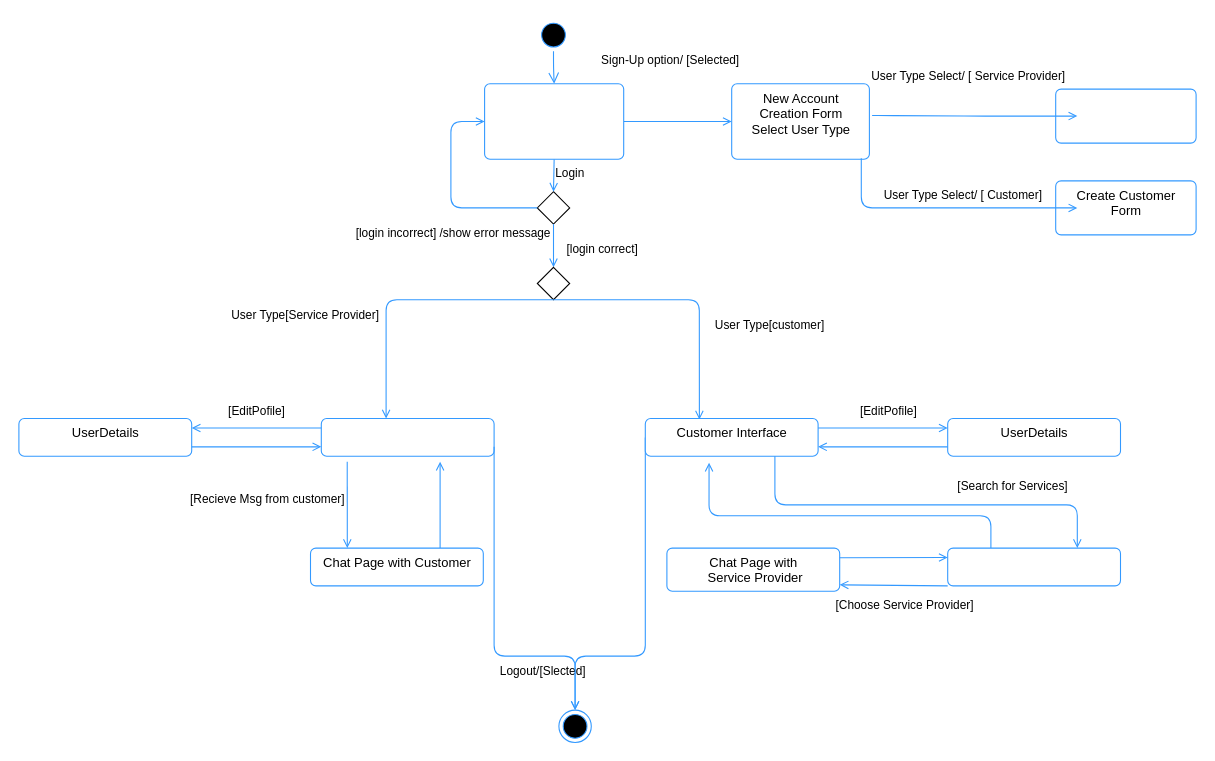
Image size: 1215x761. Some labels were removed from this diagram. Here are the shapes that lost their labels. From the top down, the centre of each, then its label:
At point (554, 121): "LogInDialog Exit/Enter LogIn info/ create new account".
At point (1125, 115): "Create Service Provider Form".
At point (407, 436): "Service Provider Interface".
At point (1033, 566): "Search For Service Provider".
